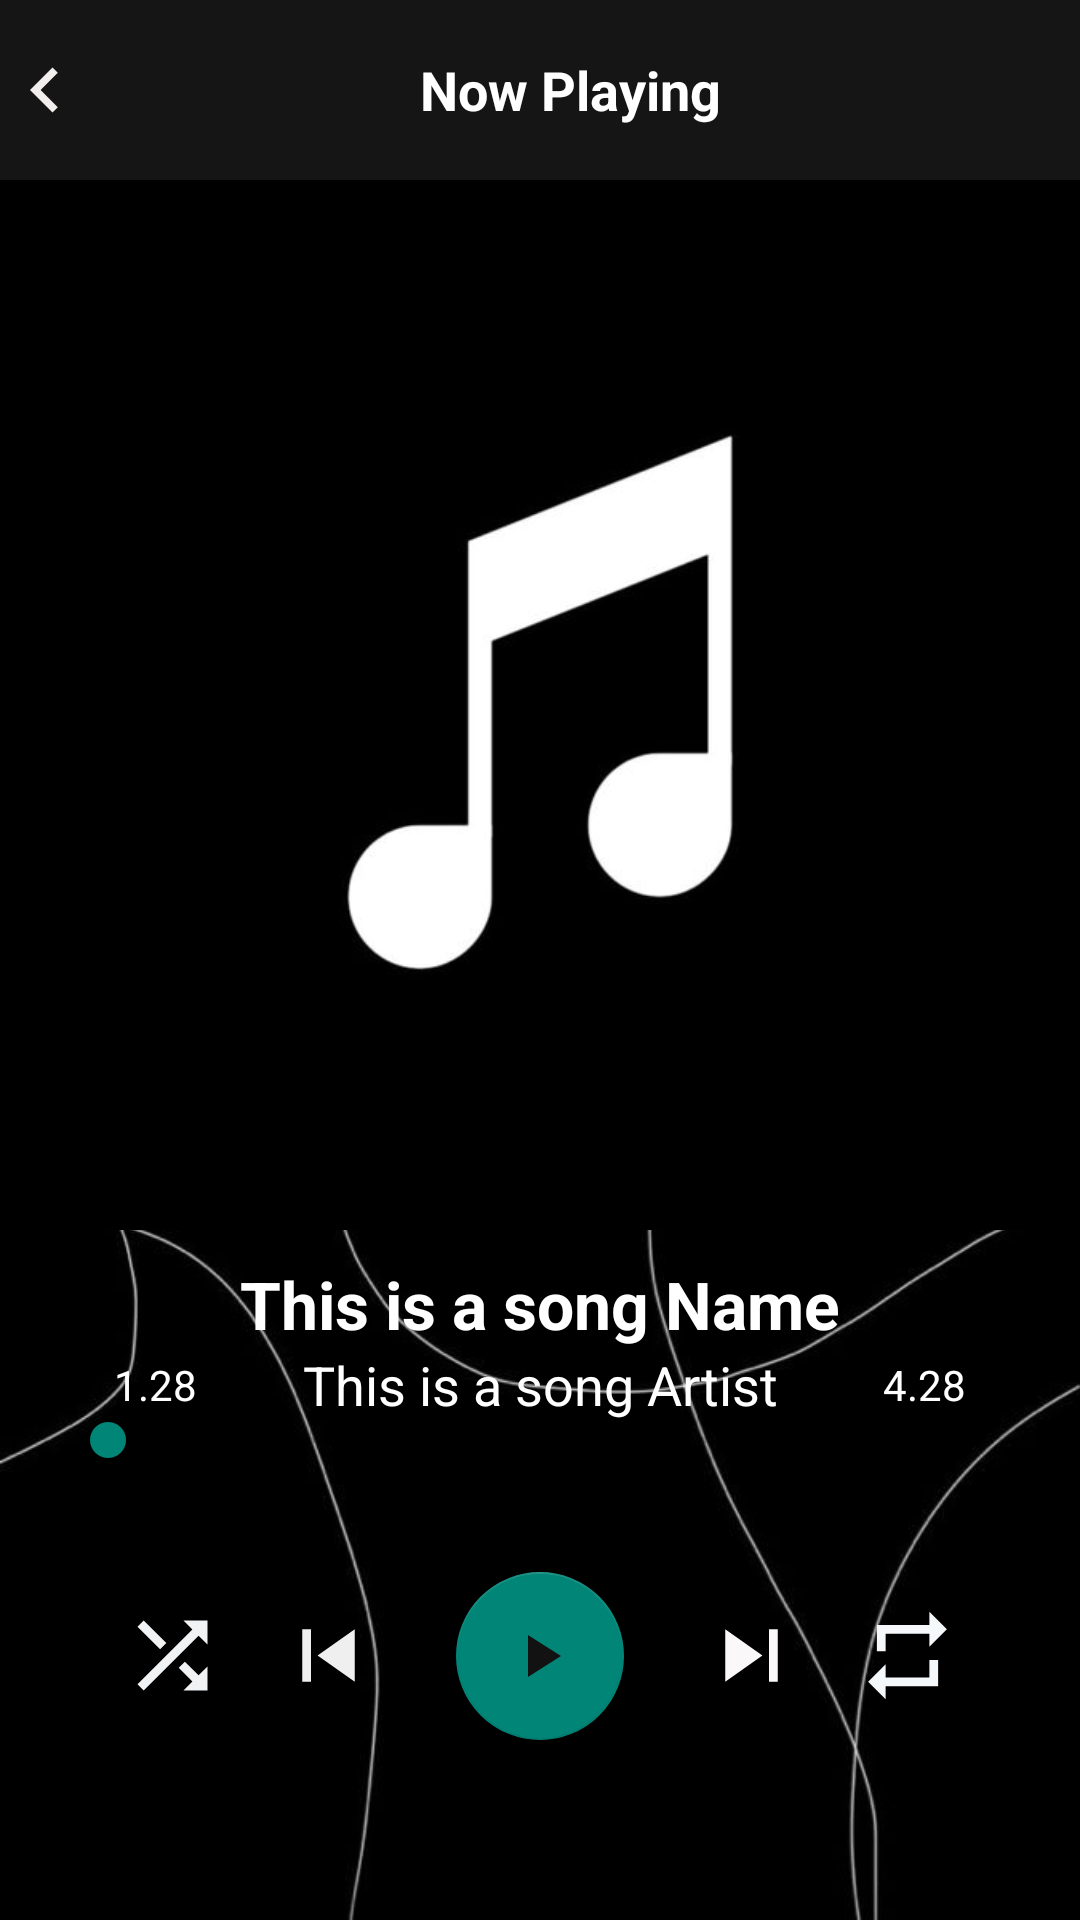

Icons on this 1080×1920 Android screen, each with its box as {"left": x1, "top": y1, "right": x2, "bottom": y2}:
chevron left: {"left": 30, "top": 67, "right": 58, "bottom": 113}
play: {"left": 456, "top": 1572, "right": 624, "bottom": 1740}
repeat off: {"left": 857, "top": 1603, "right": 947, "bottom": 1708}
shuffle off: {"left": 137, "top": 1620, "right": 208, "bottom": 1691}
skip next: {"left": 725, "top": 1629, "right": 778, "bottom": 1682}
skip previous: {"left": 302, "top": 1629, "right": 355, "bottom": 1682}
